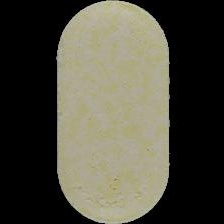55111-264: (0, 0, 224, 224)
